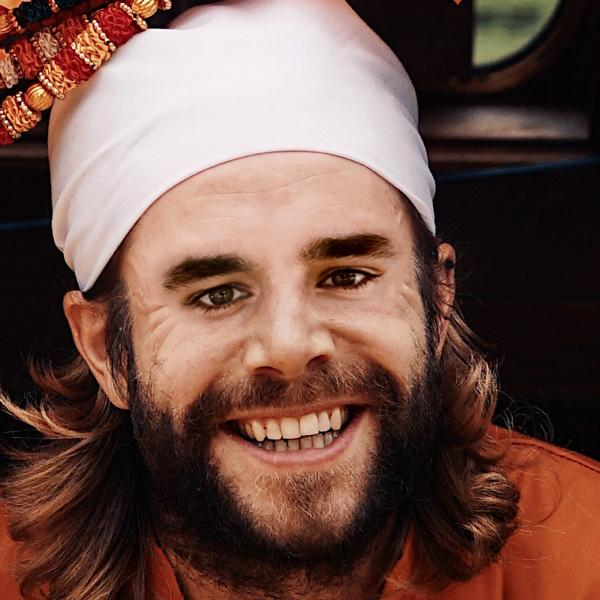Eyes: (307, 255, 389, 308), (176, 274, 262, 323)
